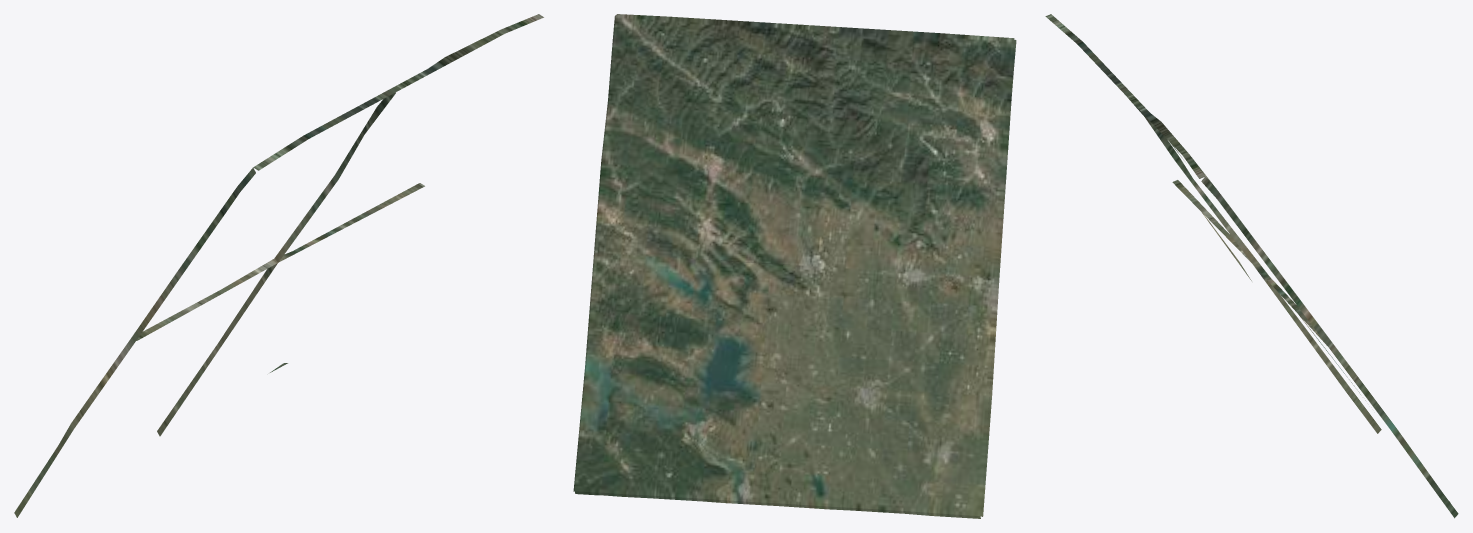
3 renders of one model, left to right at view 1: azimuth 30°, elevation 25°; view 2: azimuth 150°, elevation 25°; view 3: azimuth 270°, elevation 25°, orthographic. The views are drawn at different scales.
Bounding box in the file's own units: 155191 × 134367 × 130153.
Materials: 1 (1 with a texture image).
